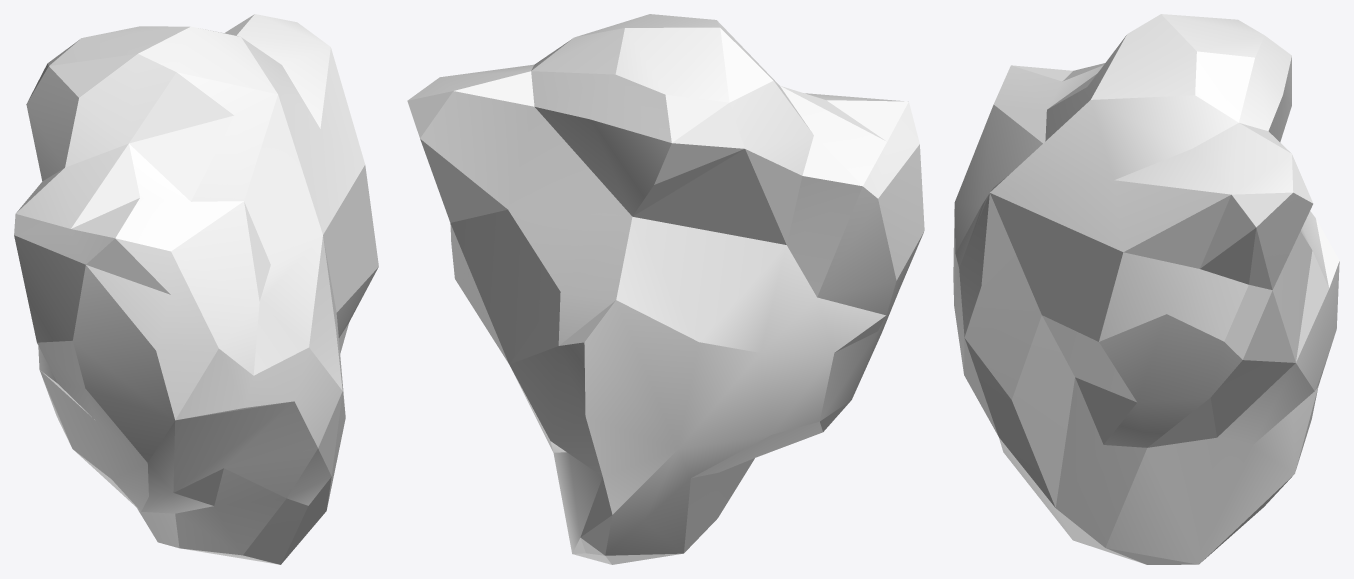
Rendered from ground.rock2.glb.
3 renders of one model, left to right at view 1: azimuth 30°, elevation 25°; view 2: azimuth 150°, elevation 25°; view 3: azimuth 270°, elevation 25°, orthographic. The views are drawn at different scales.
Visible parts, largest first — view 1: rock2; view 2: rock2; view 3: rock2.
Boxes of the visible parts, x1,y1,x2,y2 form: rock2: (14, 14, 378, 564); rock2: (407, 14, 924, 564); rock2: (953, 14, 1339, 564).
Size of the model in its own units: 0.8518 by 1.12 by 0.7811.
Materials: 1 (1 with a texture image).
